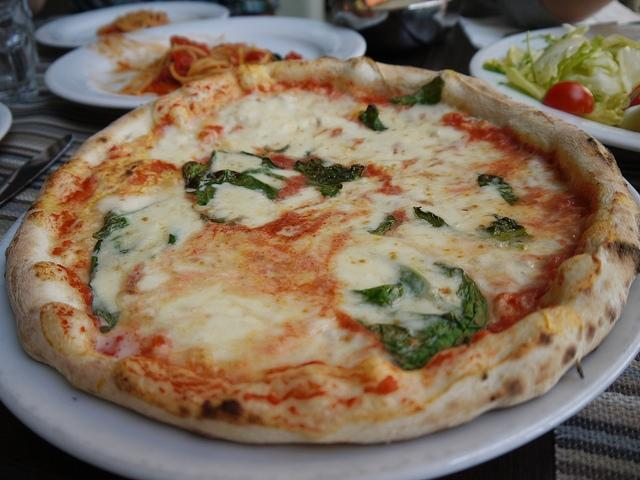tomato: (541, 80, 596, 114), (171, 50, 194, 77), (622, 84, 640, 111), (151, 80, 170, 96), (243, 50, 266, 63), (170, 36, 191, 46), (285, 50, 303, 60)
